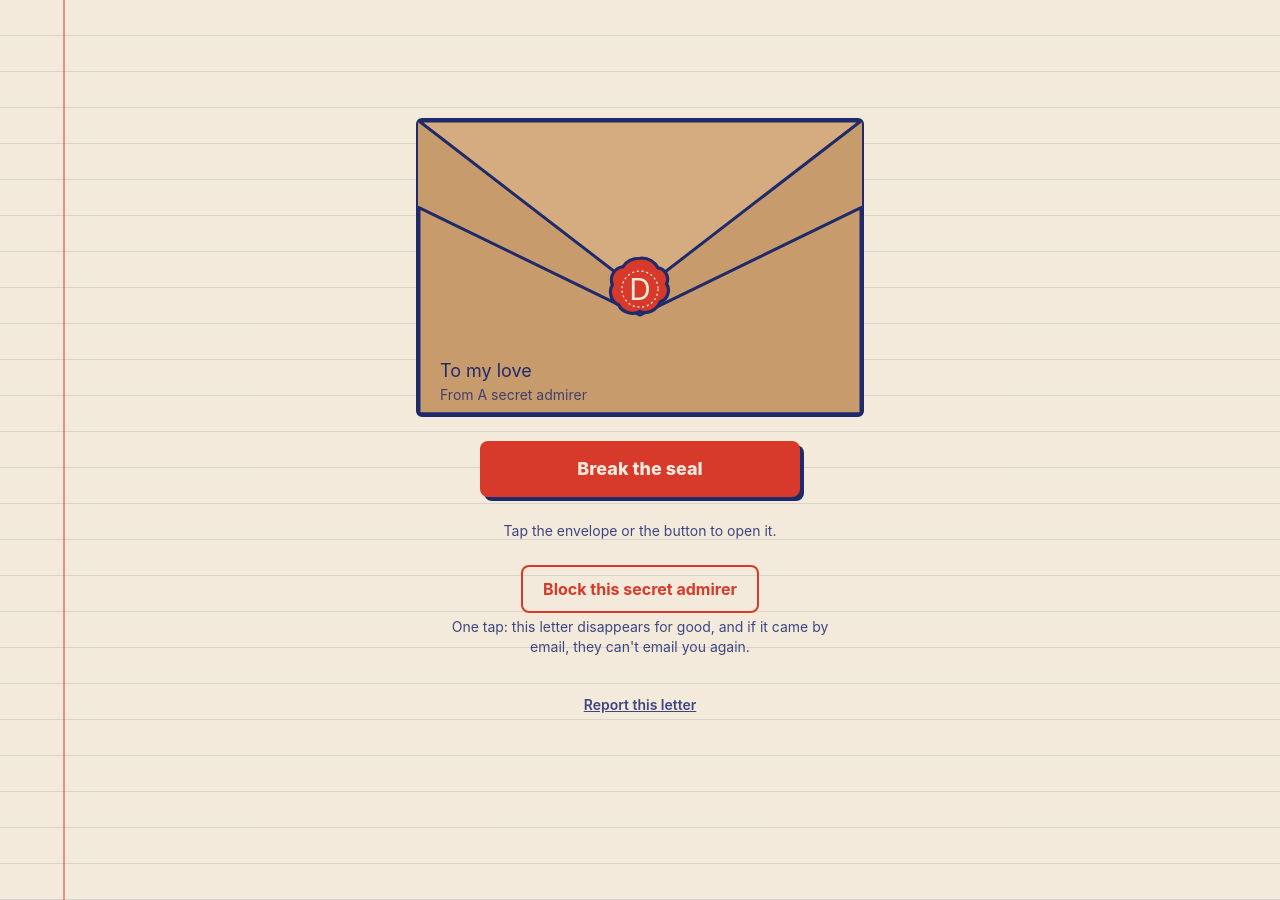
it: OpenLetter › lets the recipient block a secret admirer with one tap
Check: the button "To my love From A secret admirer D D" is shown, box [416,118,864,417]
Click the button "Break the seal".
click(640, 469)  # box [480,441,800,497]
(page scrolled)
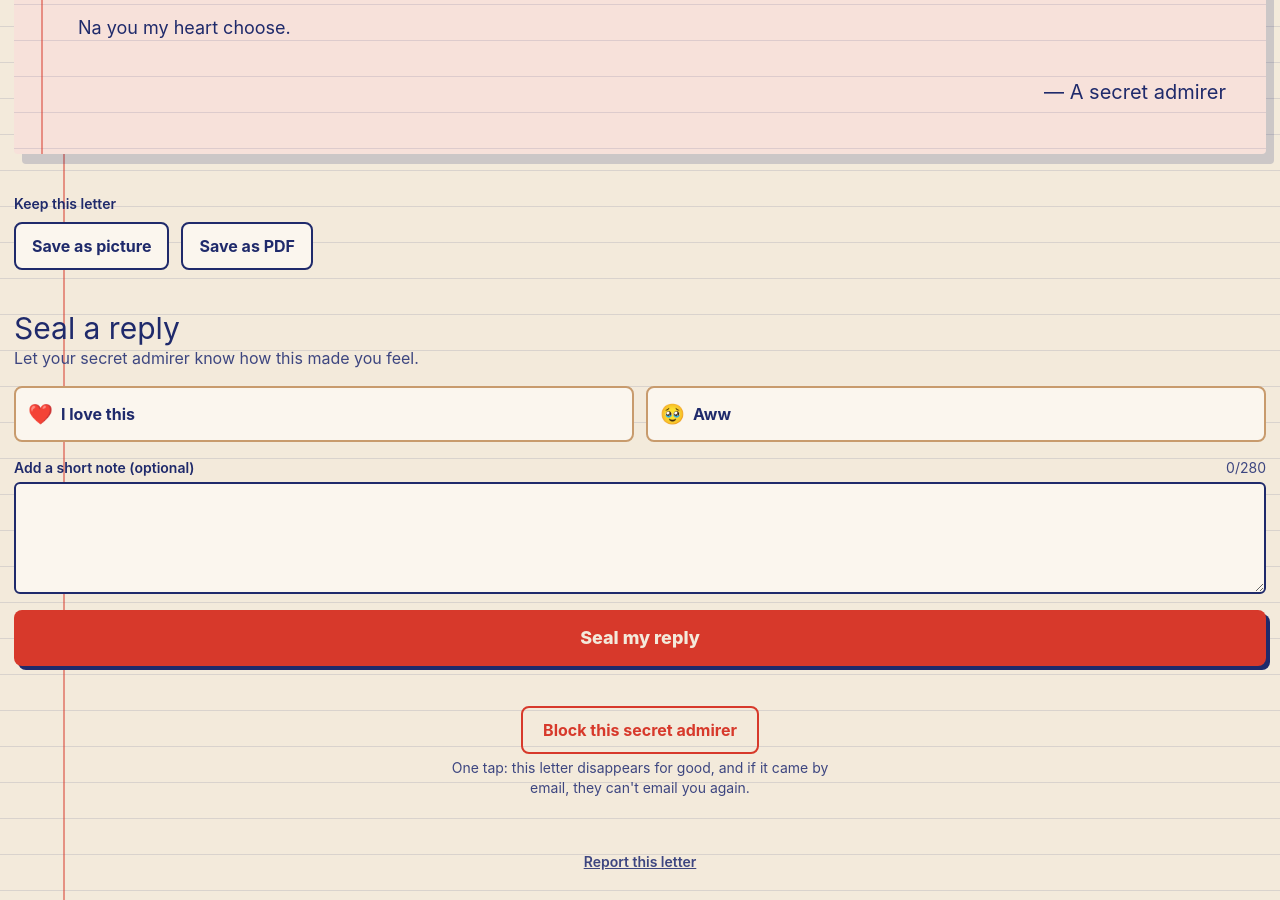
Check: the text "Let your secret admirer know how this made you feel." is shown, box [14,348,419,368]
Click the button "Block this secret admirer".
click(640, 730)  # box [521,706,759,754]
(page scrolled)
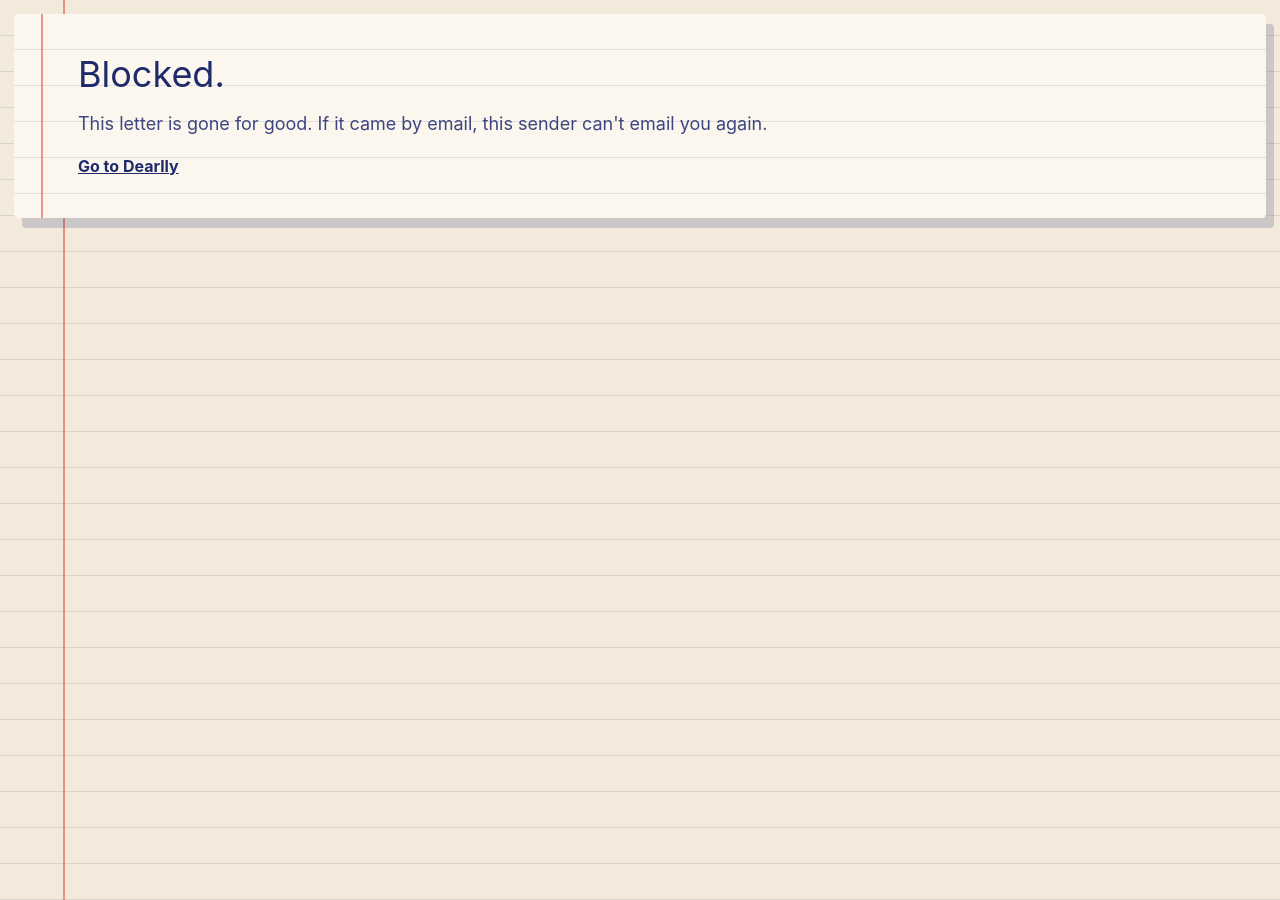
Check: the heading "Blocked." is shown, box [78,52,225,96]
